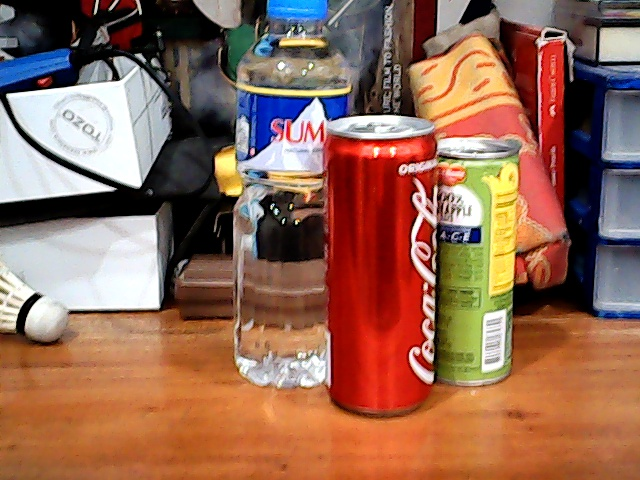Cola: (321, 107, 440, 423)
Pine Juice: (428, 126, 532, 402)
Summit Water: (232, 1, 333, 404)
